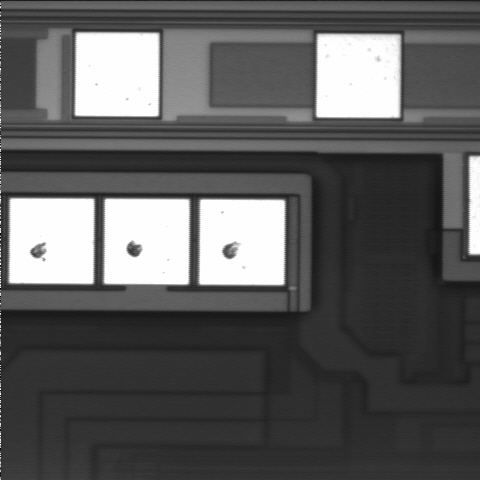pad: (199, 200, 285, 285), (9, 199, 94, 284), (104, 199, 189, 284), (75, 33, 159, 116), (317, 34, 400, 118)
